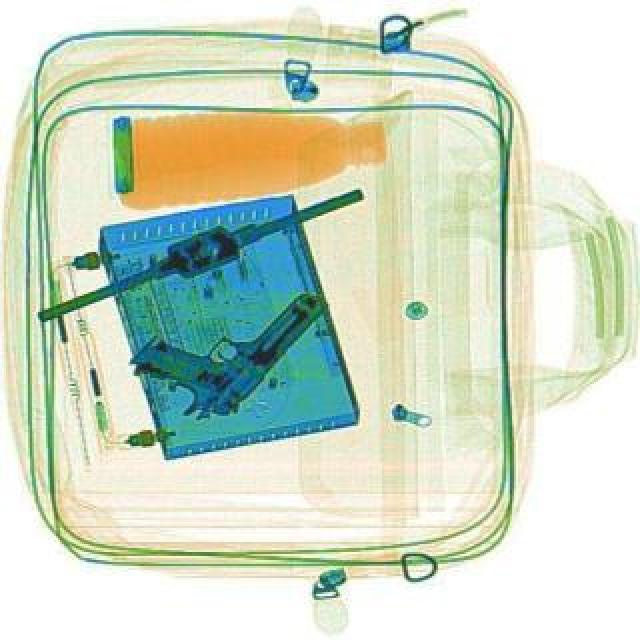gun: (120, 236, 330, 436)
